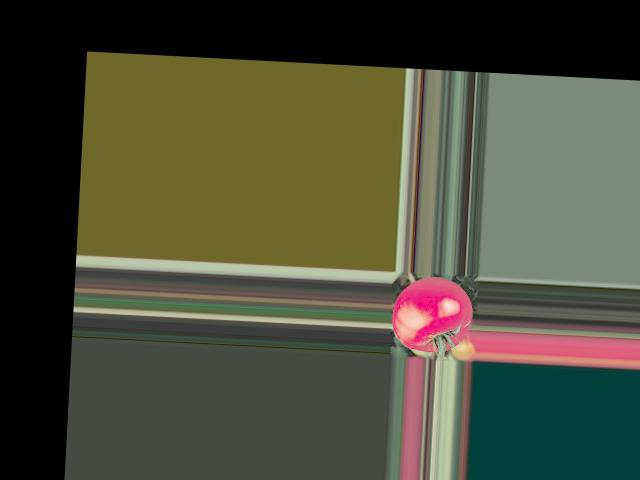tomato: (390, 274, 473, 353)
